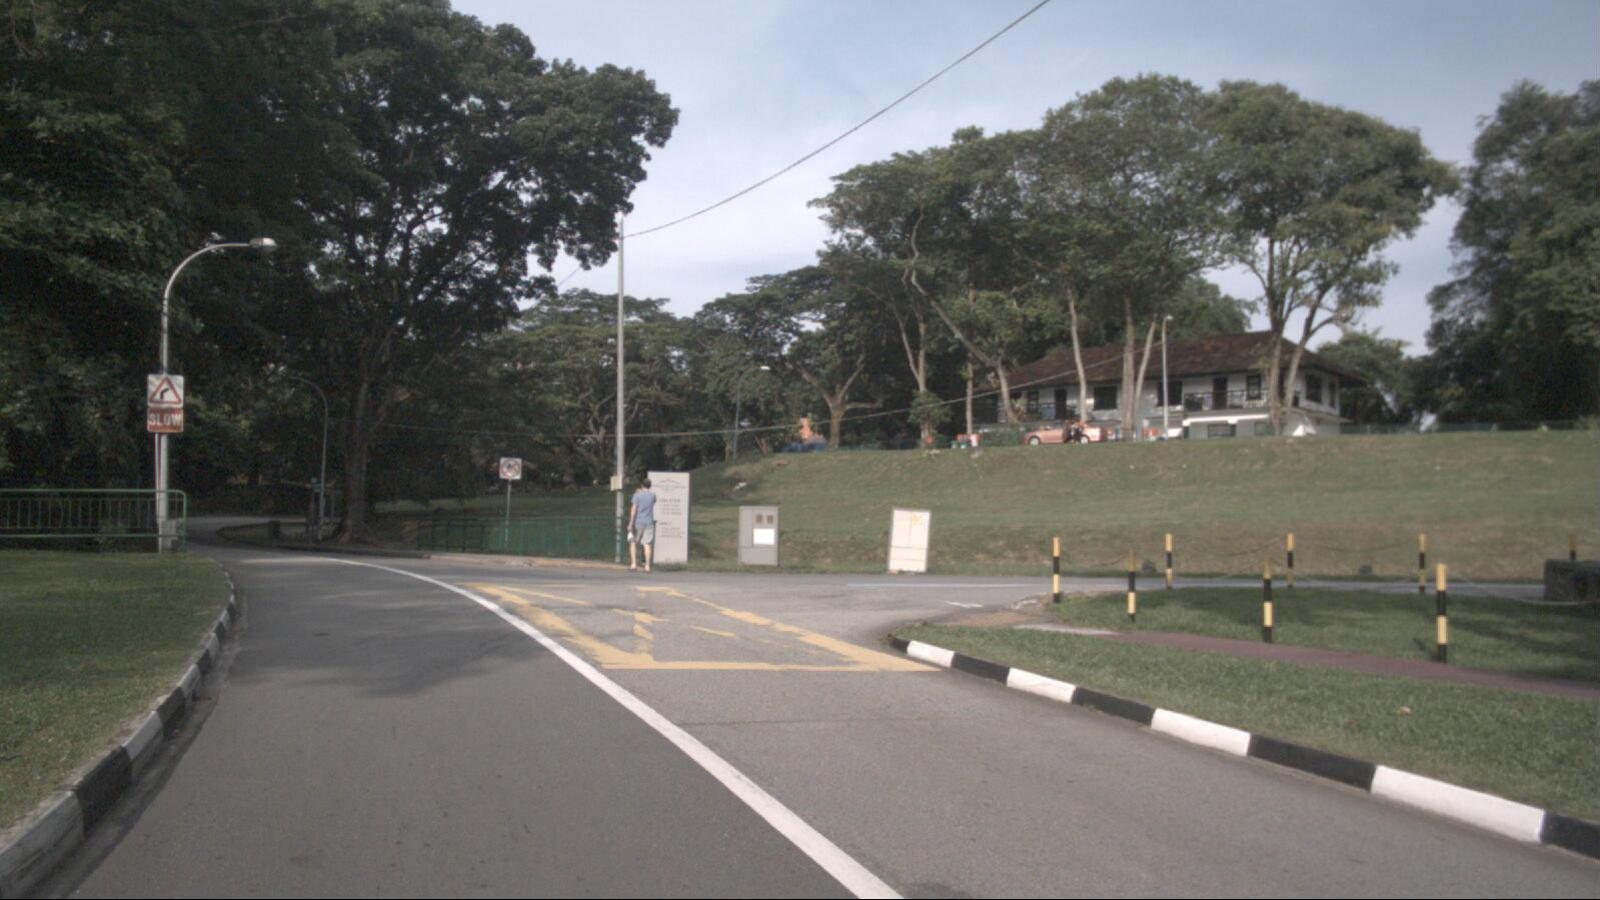human.pedestrian.adult-pedestrian.moving: (627, 479, 655, 573), (248, 463, 261, 506)
